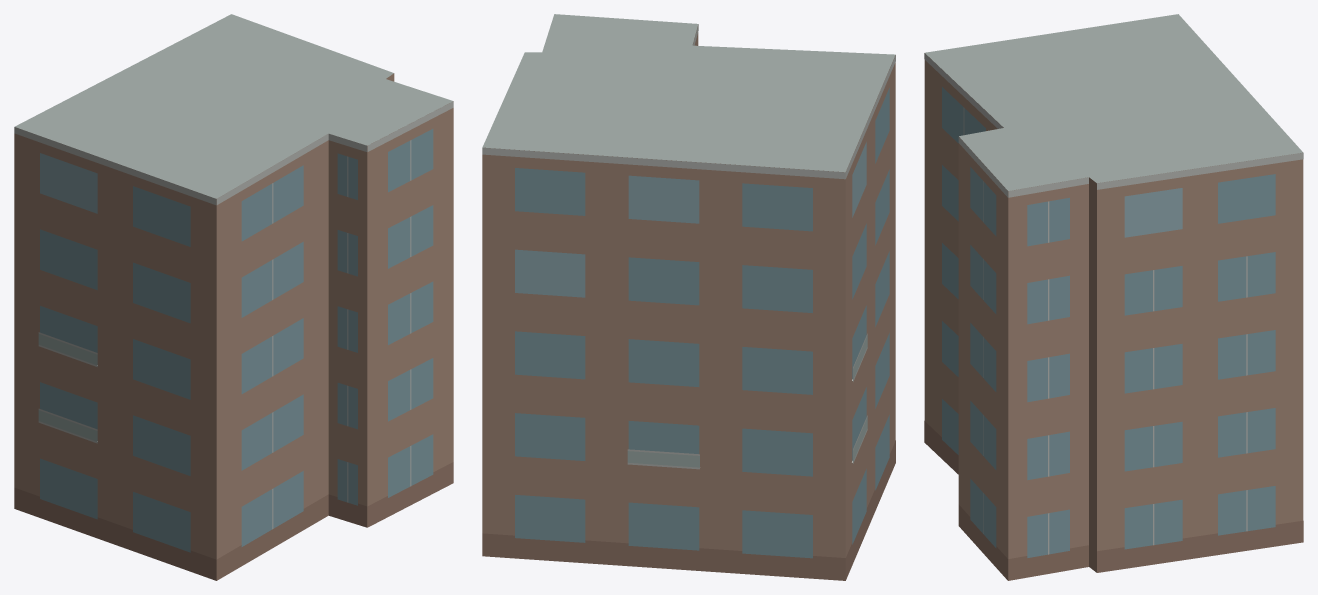
Rendered from survey-upis-32947823.glb.
3 views of the same model, side by side, from view 1: azimuth 30°, elevation 25°; view 2: azimuth 150°, elevation 25°; view 3: azimuth 270°, elevation 25° (orthographic). The views are drawn at different scales.
Parts seen in each view (by area): view 1: survey-upis-32947823.tmp; view 2: survey-upis-32947823.tmp; view 3: survey-upis-32947823.tmp.
Part boxes in pixels (bbox=[...]): survey-upis-32947823.tmp: bbox=[14, 14, 453, 580]; survey-upis-32947823.tmp: bbox=[482, 14, 895, 580]; survey-upis-32947823.tmp: bbox=[924, 14, 1303, 580].
Size of the model in its own units: 13.85 by 14.2 by 12.52.
